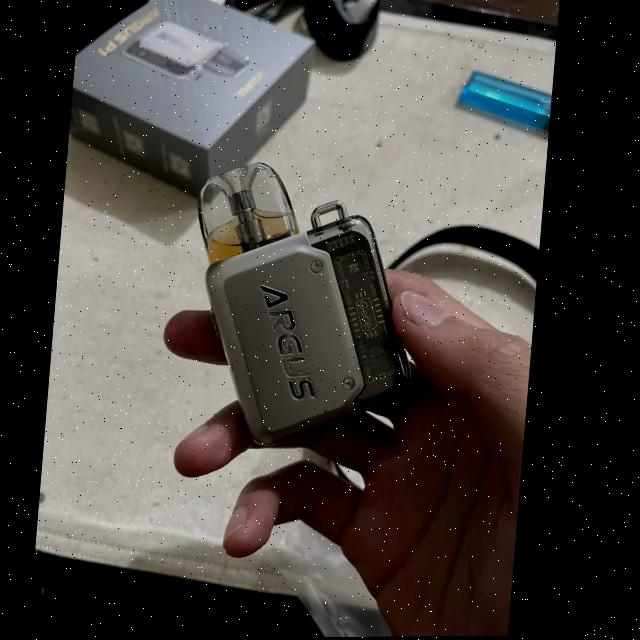vape: (185, 162, 434, 448)
